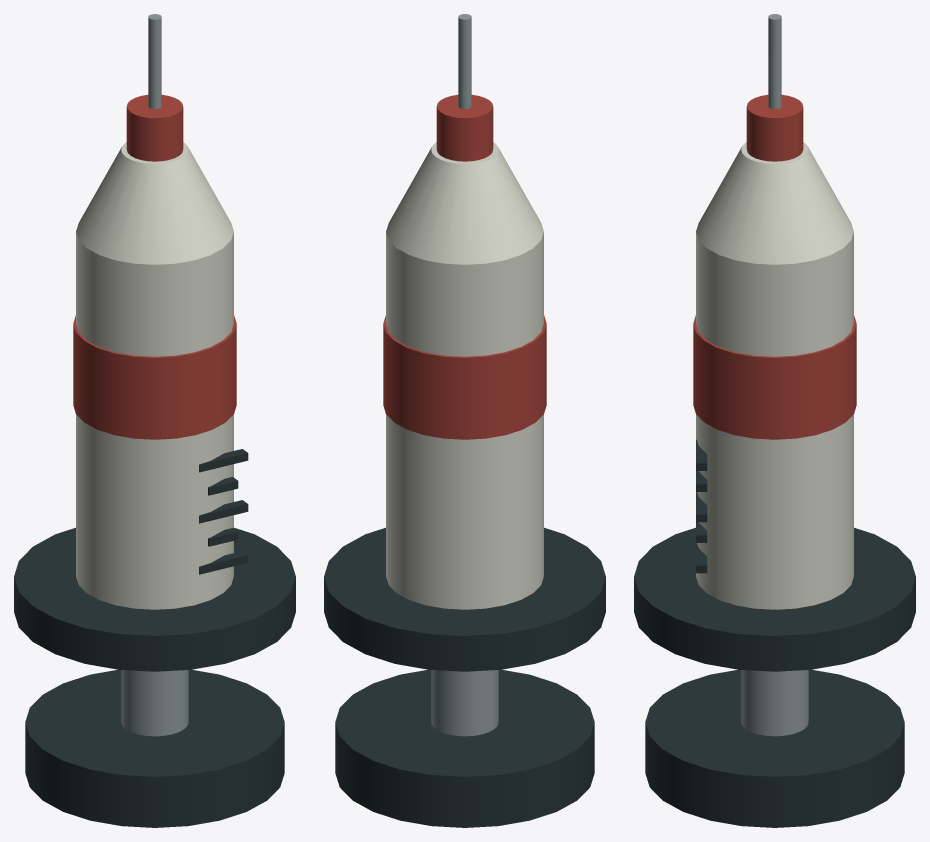
The model's file is FSA_ITEM_Consumable_002_FirstAidInjector.glb.
The picture shows the model from 3 angles, left to right: view 1: azimuth 30°, elevation 25°; view 2: azimuth 150°, elevation 25°; view 3: azimuth 270°, elevation 25°; orthographic projection.
Visible parts, largest first — view 1: Barrel, PlungerFoot, FingerFlange, DoseBand, Taper, PlungerStem, NeedleHub, Needle, DoseMark_0, DoseMark_4, DoseMark_2; view 2: Barrel, PlungerFoot, FingerFlange, DoseBand, Taper, PlungerStem, NeedleHub, Needle; view 3: Barrel, PlungerFoot, FingerFlange, DoseBand, Taper, PlungerStem, NeedleHub, Needle.
Part boxes in pixels (bbox=[...]): Barrel: bbox=[76, 232, 233, 609]; PlungerFoot: bbox=[25, 669, 284, 827]; FingerFlange: bbox=[14, 527, 295, 671]; DoseBand: bbox=[73, 315, 236, 439]; Taper: bbox=[76, 142, 233, 264]; PlungerStem: bbox=[121, 670, 188, 736]; NeedleHub: bbox=[126, 94, 183, 161]; Needle: bbox=[148, 14, 161, 108]; DoseMark_0: bbox=[199, 551, 248, 574]; DoseMark_4: bbox=[199, 449, 248, 472]; DoseMark_2: bbox=[199, 500, 248, 523]; Barrel: bbox=[386, 232, 543, 609]; PlungerFoot: bbox=[335, 669, 594, 827]; FingerFlange: bbox=[324, 527, 605, 671]; DoseBand: bbox=[383, 315, 546, 439]; Taper: bbox=[386, 142, 543, 264]; PlungerStem: bbox=[431, 670, 498, 736]; NeedleHub: bbox=[436, 94, 493, 161]; Needle: bbox=[458, 14, 471, 108]; Barrel: bbox=[696, 232, 853, 609]; PlungerFoot: bbox=[645, 669, 904, 827]; FingerFlange: bbox=[634, 527, 915, 671]; DoseBand: bbox=[693, 315, 856, 439]; Taper: bbox=[696, 142, 853, 264]; PlungerStem: bbox=[741, 670, 808, 736]; NeedleHub: bbox=[746, 94, 803, 161]; Needle: bbox=[768, 14, 781, 108].
Bounding box in the file's own units: 0.05 × 0.148 × 0.05.
